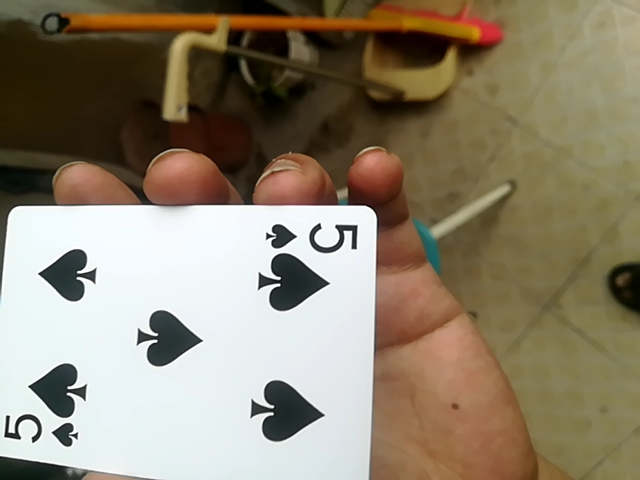ht 5: (0, 197, 379, 480)
